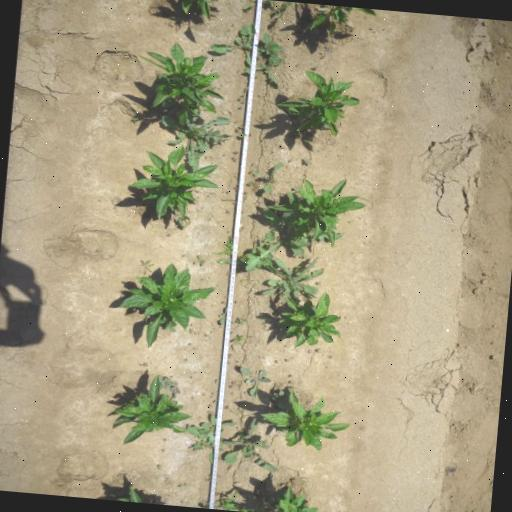plant: (114, 261, 217, 348), (133, 43, 227, 123), (125, 144, 220, 220), (269, 177, 367, 239), (108, 375, 194, 444), (258, 390, 352, 452), (276, 71, 361, 139), (270, 292, 343, 351), (305, 4, 379, 36), (261, 482, 321, 512)
weed: (242, 207, 344, 272), (185, 416, 281, 473), (156, 113, 234, 172), (209, 22, 283, 66), (257, 256, 323, 303), (212, 483, 264, 512), (243, 52, 284, 88), (236, 365, 272, 399), (212, 234, 248, 267), (198, 414, 238, 436), (262, 160, 286, 194), (158, 376, 184, 396), (238, 0, 273, 14), (268, 387, 287, 409), (270, 0, 290, 20), (138, 258, 156, 276), (173, 216, 190, 230), (216, 306, 227, 326), (192, 254, 206, 268), (234, 335, 248, 344), (301, 156, 312, 166), (226, 382, 236, 390), (236, 317, 247, 324), (130, 116, 139, 124), (138, 362, 149, 368), (237, 132, 246, 139), (253, 168, 260, 177), (177, 483, 187, 489), (230, 156, 238, 162), (246, 180, 254, 186), (222, 404, 230, 410), (315, 348, 322, 354), (154, 464, 160, 470), (232, 151, 240, 155), (300, 254, 308, 258), (316, 281, 322, 286), (243, 86, 248, 91), (312, 65, 318, 69), (230, 320, 234, 326), (190, 328, 194, 333), (212, 400, 217, 404), (240, 100, 246, 103), (234, 129, 240, 132), (240, 226, 243, 232), (274, 360, 278, 364), (228, 354, 232, 358), (286, 359, 290, 362), (288, 375, 292, 378), (288, 382, 294, 384), (204, 334, 210, 336), (238, 106, 242, 108), (242, 94, 244, 97), (330, 356, 333, 358)
